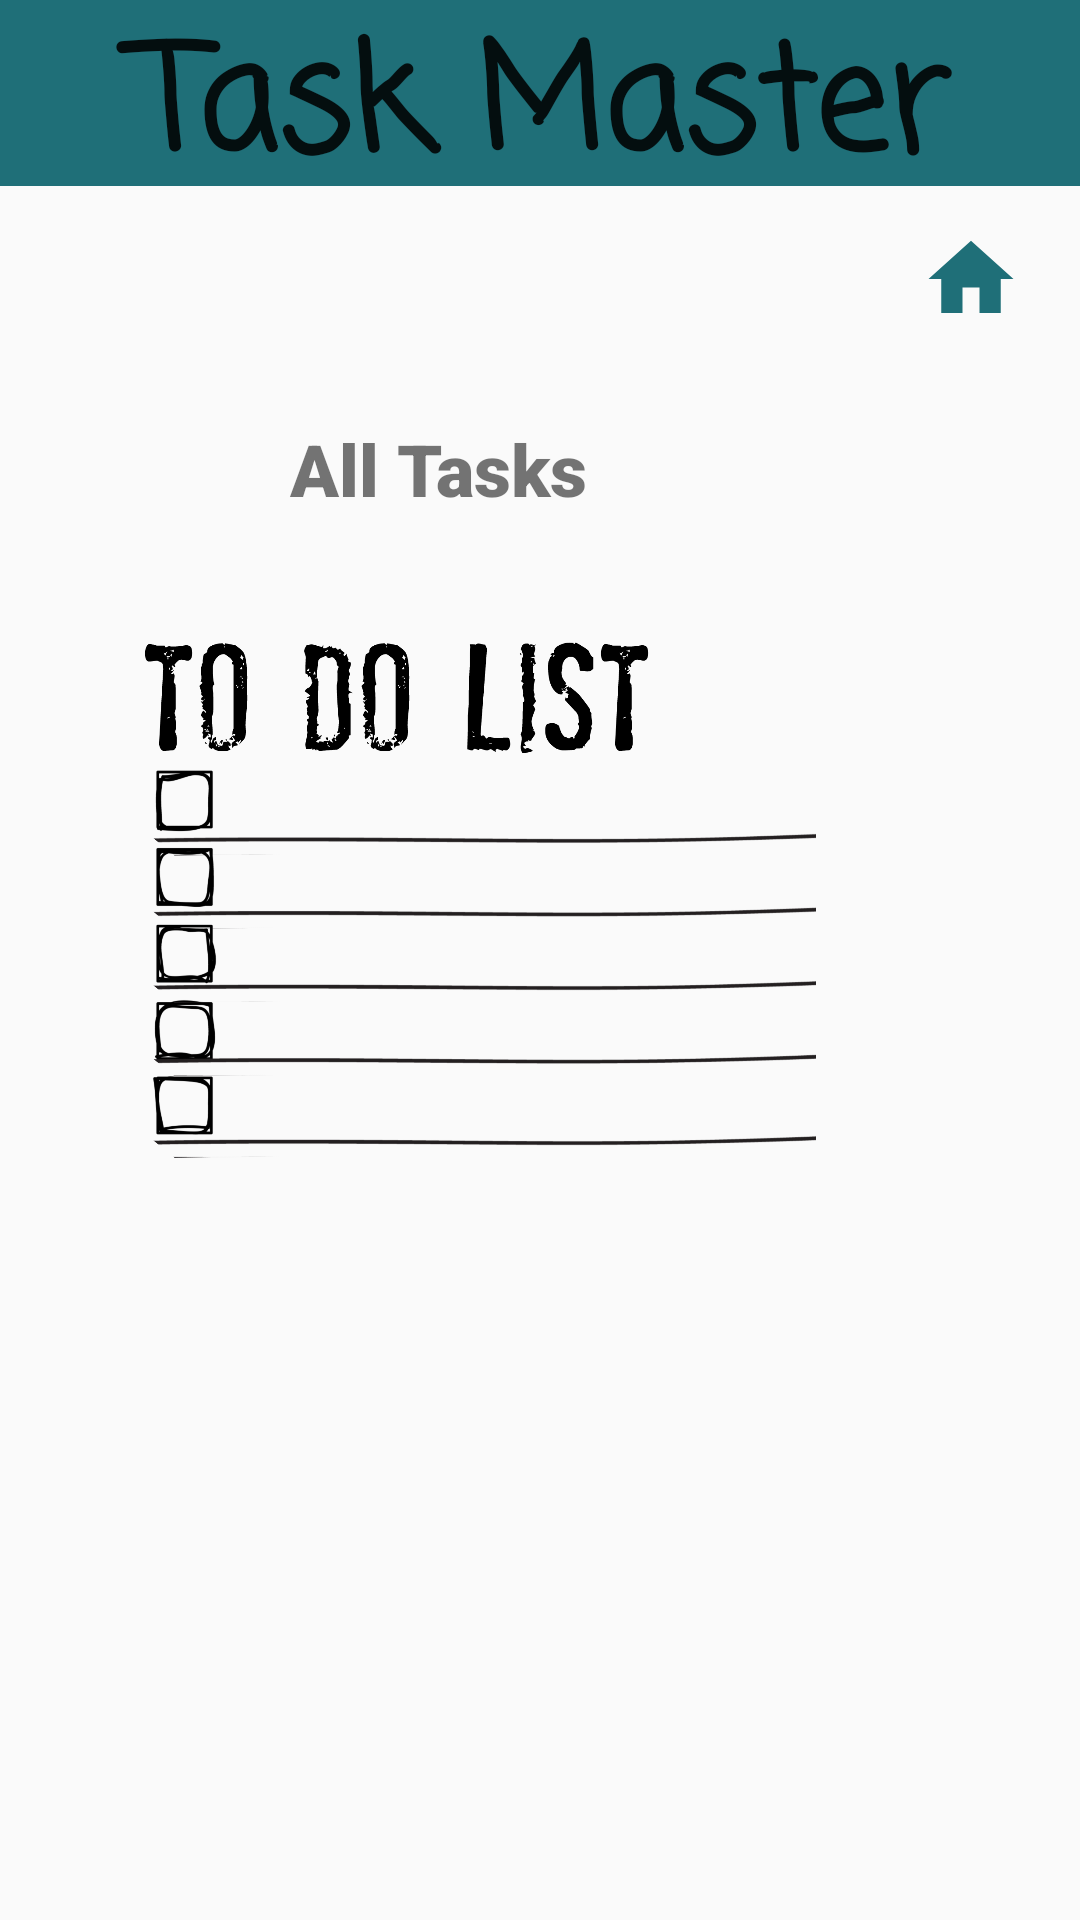

Icon click points for this 1080x1920 phone screenshot, format (x=x, y=y):
home: (x=971, y=277)
